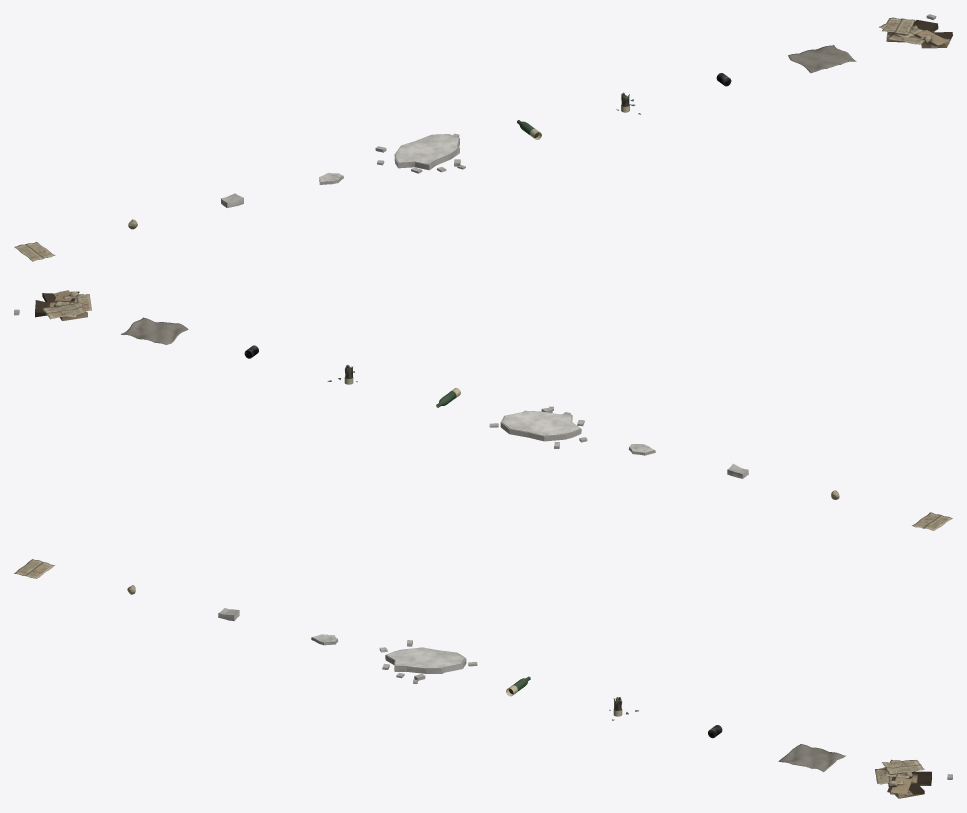
The model's file is Debris.fbx.
3 renders of one model, top to bottom at view 1: azimuth 30°, elevation 25°; view 2: azimuth 150°, elevation 25°; view 3: azimuth 330°, elevation 25°, orthographic.
Parts seen in each view (by area): view 1: Plaster_Slab, Junk_Pile, Rag; view 2: Plaster_Slab, Junk_Pile, Rag; view 3: Plaster_Slab, Junk_Pile, Rag.
Part boxes in pixels (<box>): Plaster_Slab: <box>375,133,465,173</box>; Junk_Pile: <box>879,14,952,48</box>; Rag: <box>788,45,856,72</box>; Plaster_Slab: <box>489,406,587,448</box>; Junk_Pile: <box>14,290,91,320</box>; Rag: <box>121,317,188,344</box>; Plaster_Slab: <box>379,640,477,683</box>; Junk_Pile: <box>875,759,952,798</box>; Rag: <box>778,744,845,771</box>.
Size of the model in its own units: 8.47 by 0.1483 by 0.6703.
